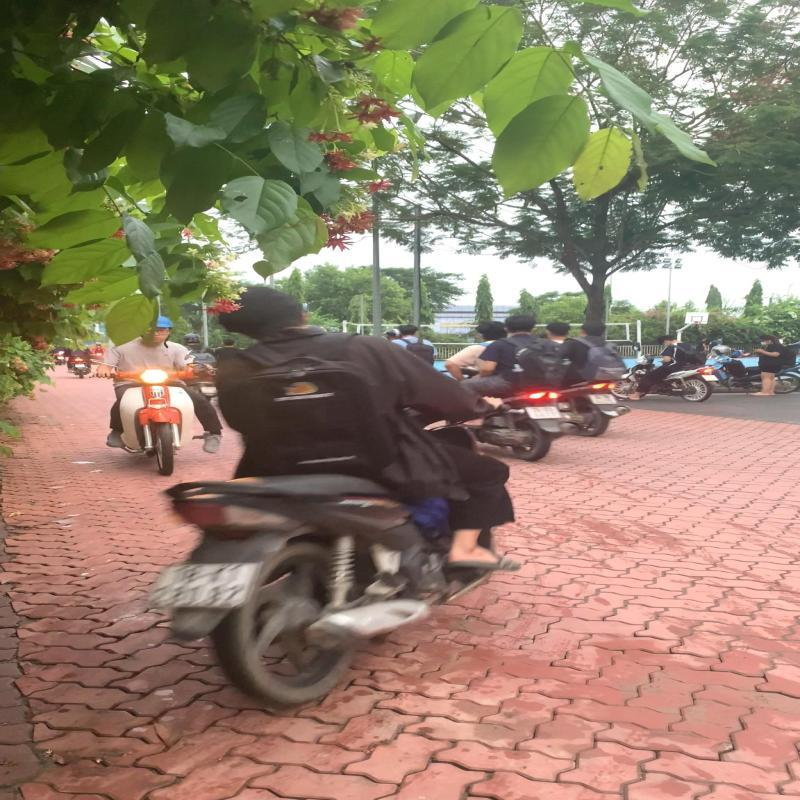licenseplate: (524, 406, 562, 420), (588, 393, 619, 405)
motorcyclist: (432, 314, 568, 462), (540, 318, 634, 437)
nohelmet: (206, 284, 316, 339), (502, 314, 540, 334), (474, 320, 508, 340), (544, 321, 570, 338), (578, 321, 607, 336), (398, 324, 420, 336)
